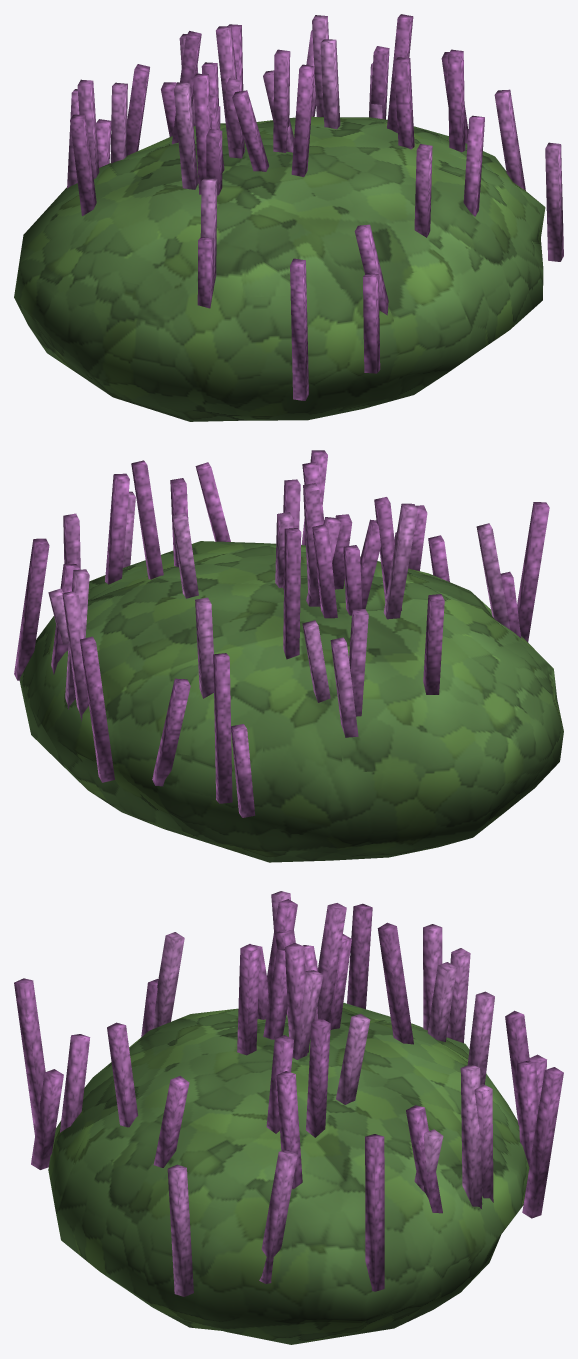
The model's file is heather_a.glb.
The picture shows the model from 3 angles, top to bottom: view 1: azimuth 30°, elevation 25°; view 2: azimuth 150°, elevation 25°; view 3: azimuth 270°, elevation 25°; orthographic projection. The views are drawn at different scales.
Visible parts, largest first — view 1: Heather_leaf; view 2: Heather_leaf; view 3: Heather_leaf.
Boxes of the visible parts, x1=… form: Heather_leaf: x1=14, y1=14, x2=563, y2=421; Heather_leaf: x1=14, y1=450, x2=563, y2=862; Heather_leaf: x1=14, y1=891, x2=563, y2=1344.
Size of the model in its own units: 1.19 by 0.8421 by 1.14.
Materials: 1 (1 with a texture image).
